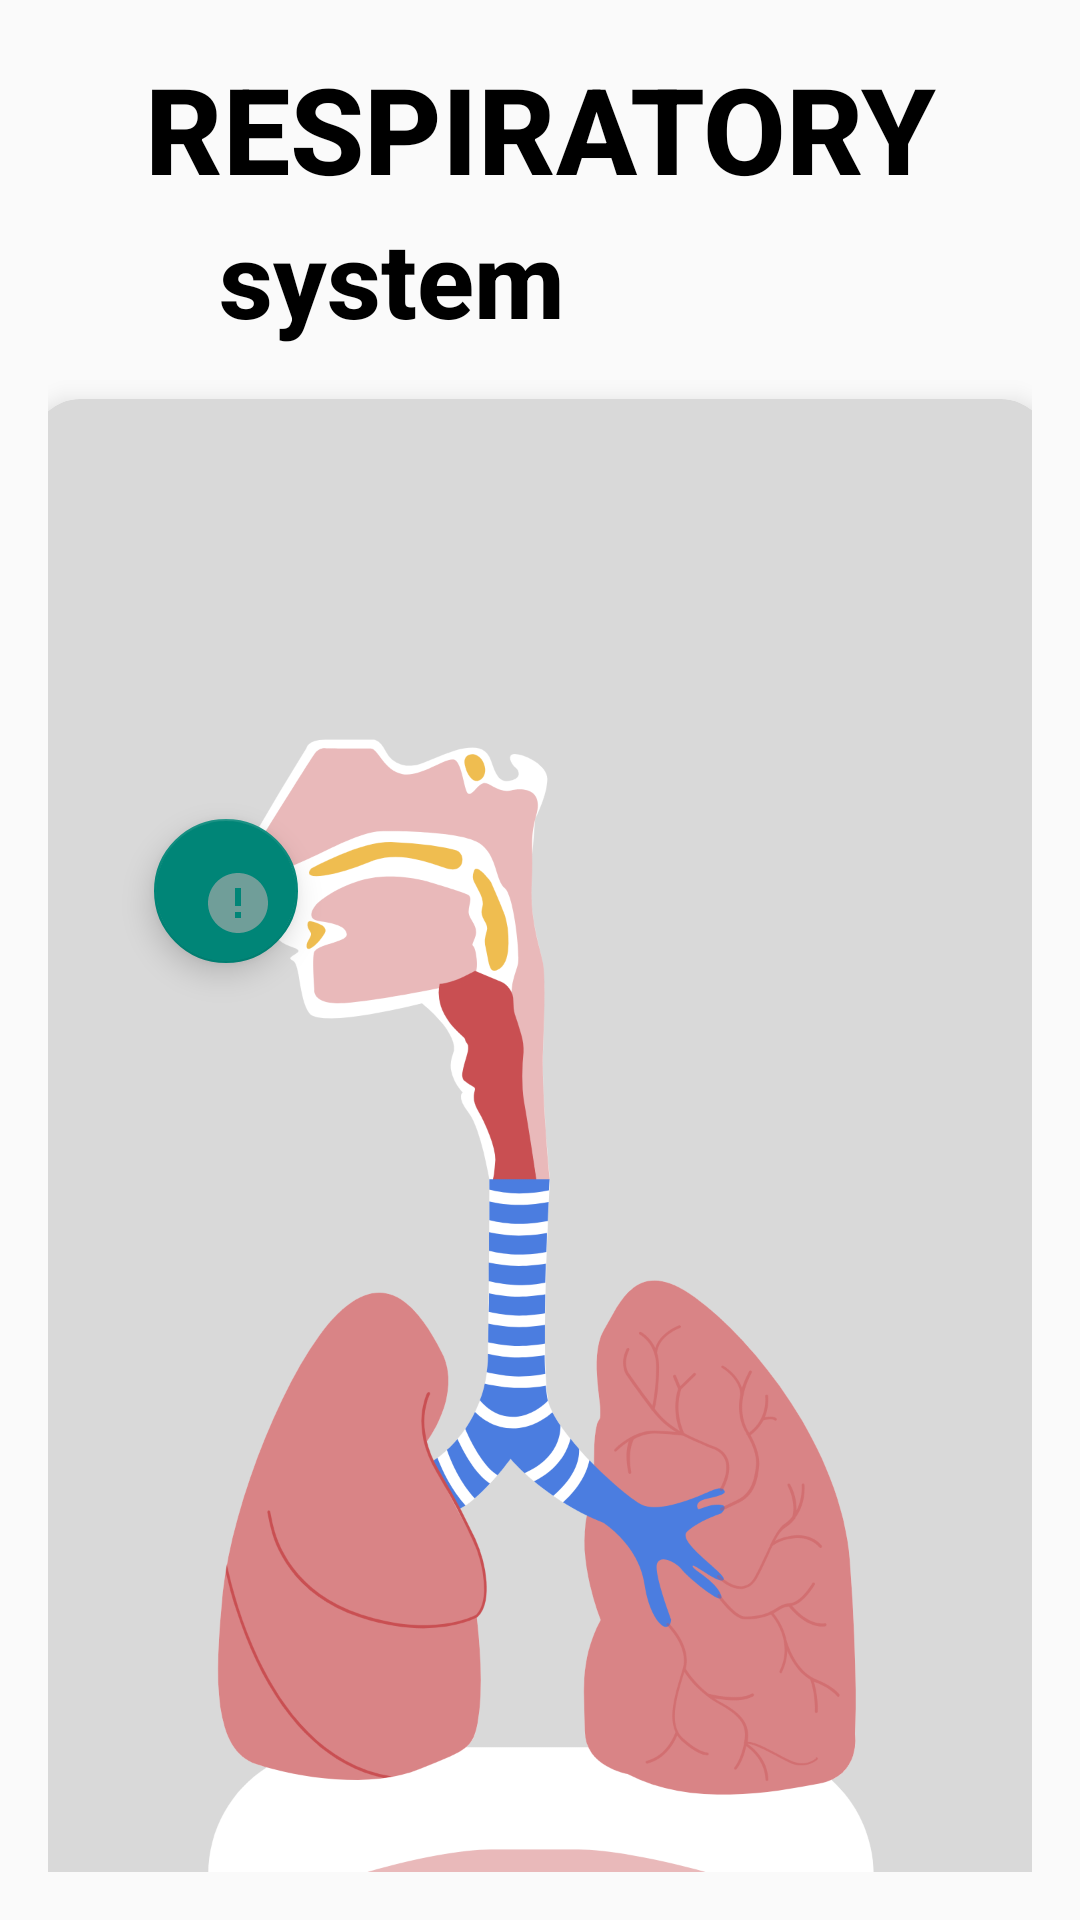

Where to tap for icons on this 1080×1920 app screen, as point (x, y):
error: point (226, 891)
